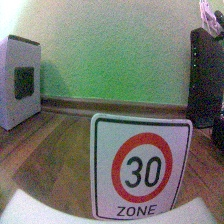dreisiger_zone: (89, 112, 191, 221)
